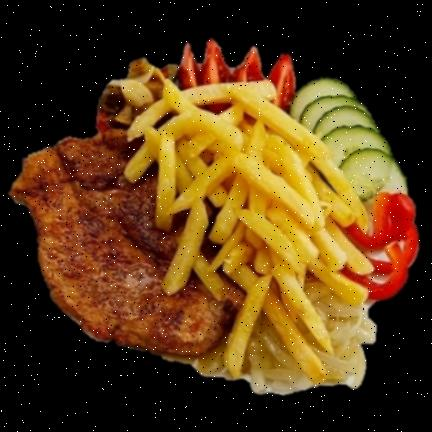cucumber: (289, 78, 407, 202)
meat: (8, 128, 247, 356)
potato: (122, 79, 377, 380)
tomato: (348, 194, 418, 298)
